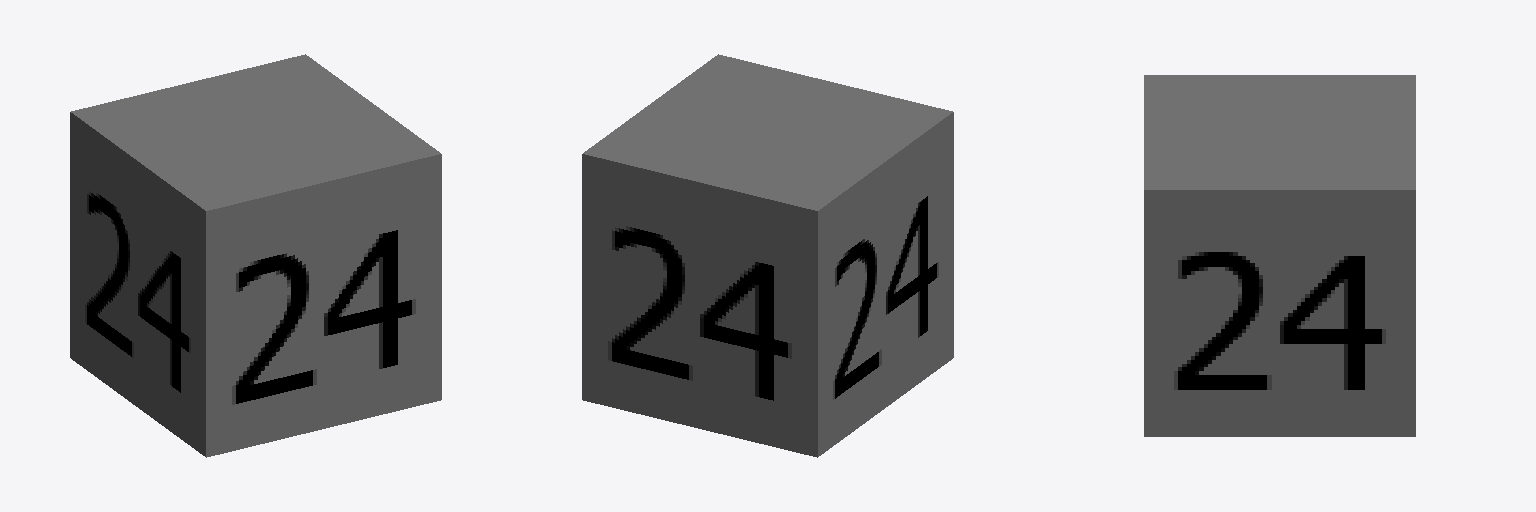
The picture shows the model from 3 angles: view 1: azimuth 30°, elevation 25°; view 2: azimuth 150°, elevation 25°; view 3: azimuth 270°, elevation 25°; orthographic projection.
Size of the model in its own units: 1 by 1 by 1.
Materials: 1 (1 with a texture image).